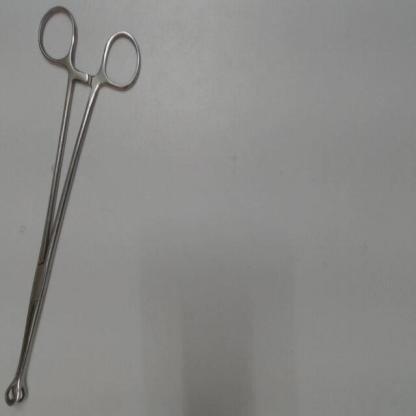8 Babcock Tissue Forceps: (2, 1, 149, 410)
